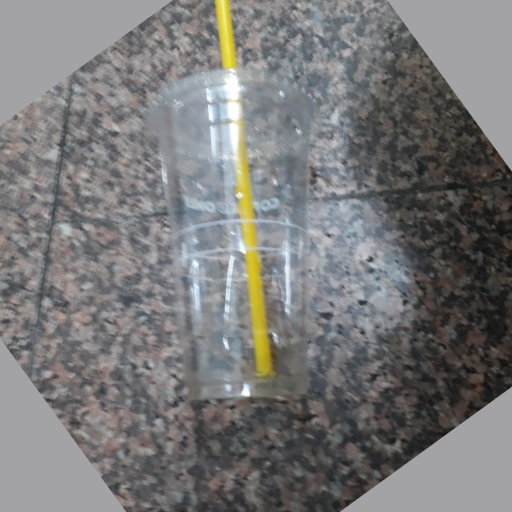Plastic_2: (147, 2, 313, 407)
